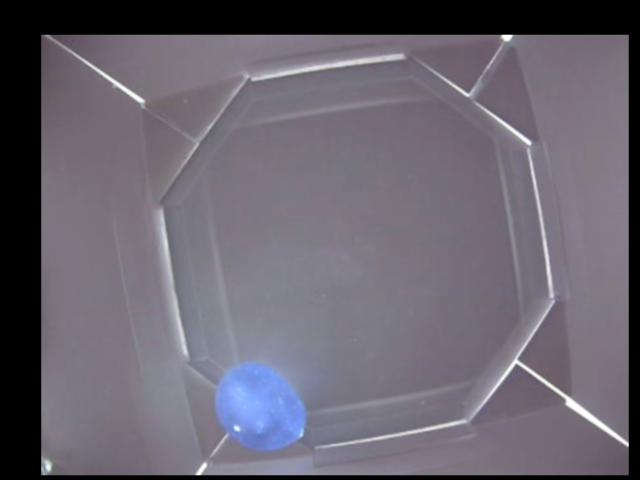Potato: (211, 361, 306, 448)
